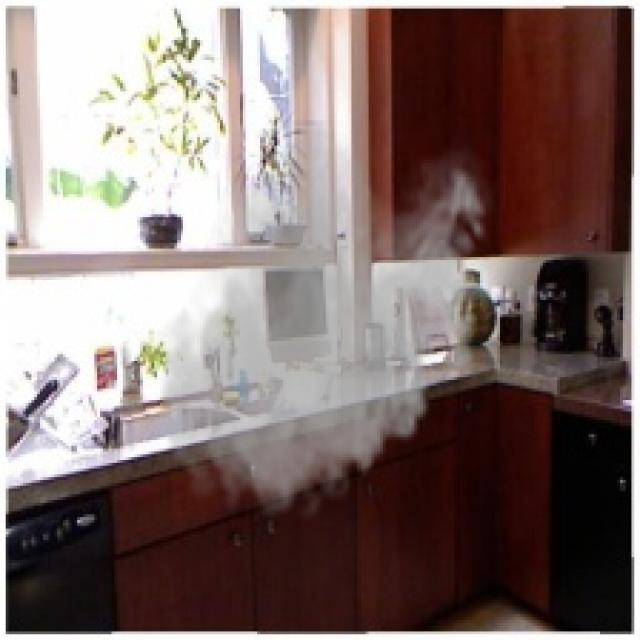smoke: (152, 120, 497, 529)
